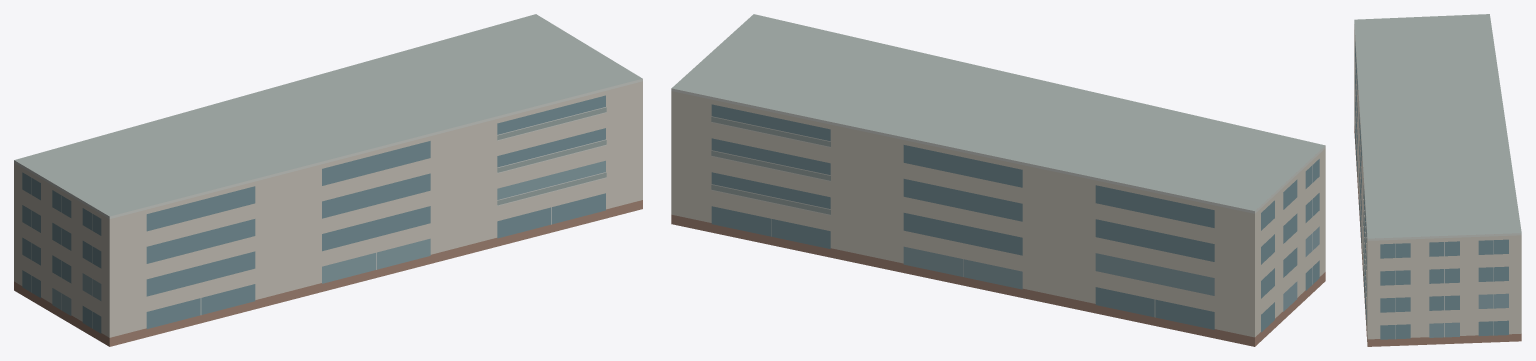
The model's file is residential-97fe5c45-c3fc-4bce-8b98-99734447f5d1.glb.
3 views of the same model, side by side, from view 1: azimuth 30°, elevation 25°; view 2: azimuth 150°, elevation 25°; view 3: azimuth 270°, elevation 25° (orthographic). The views are drawn at different scales.
Visible parts, largest first — view 1: residential-97fe5c45-c3fc-4bce-8b98-99734447f5d1.tmp; view 2: residential-97fe5c45-c3fc-4bce-8b98-99734447f5d1.tmp; view 3: residential-97fe5c45-c3fc-4bce-8b98-99734447f5d1.tmp.
Part boxes in pixels (x1,y1,x2,y2): residential-97fe5c45-c3fc-4bce-8b98-99734447f5d1.tmp: [14, 14, 642, 346]; residential-97fe5c45-c3fc-4bce-8b98-99734447f5d1.tmp: [671, 14, 1325, 346]; residential-97fe5c45-c3fc-4bce-8b98-99734447f5d1.tmp: [1354, 14, 1521, 346].
Bounding box in the file's own units: 54.36 × 12.2 × 17.13.
